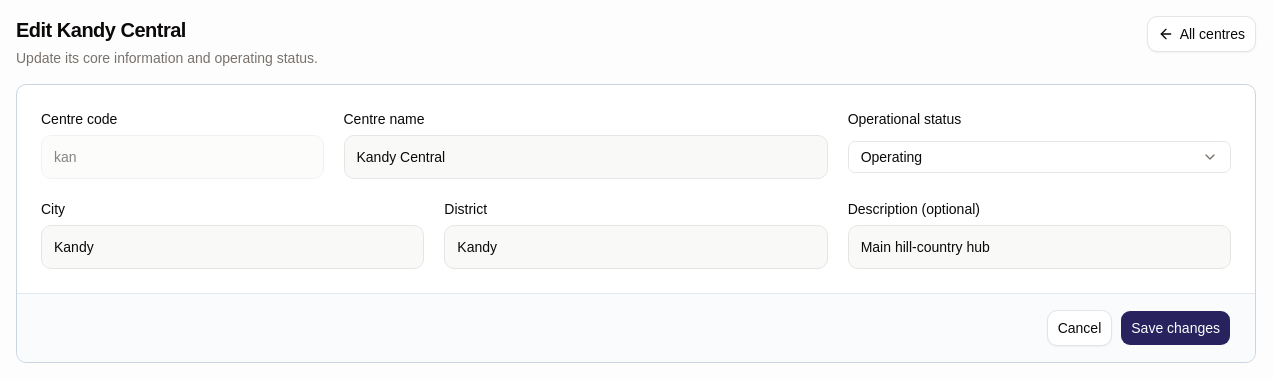
Test case: CentreFormPage in edit mode › shows a message and stays on the form when saving fails
Expected: the heading "Edit Kandy Central" is shown, x1=16 y1=19 x2=186 y2=41
Click the button "Save changes" at (1176,328), box x1=1120 y1=310 x2=1231 y2=346
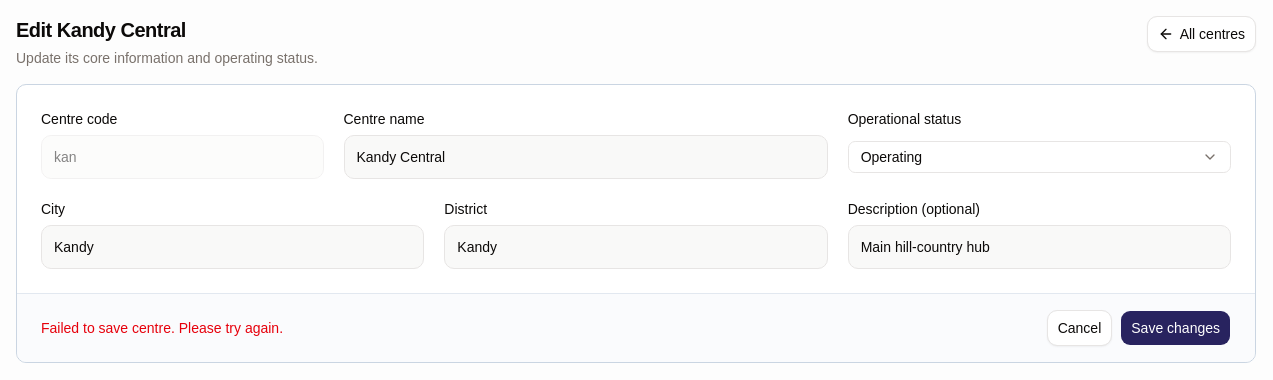
Expected: the text "Failed to save centre. Please try again." is shown, x1=41 y1=318 x2=283 y2=338
